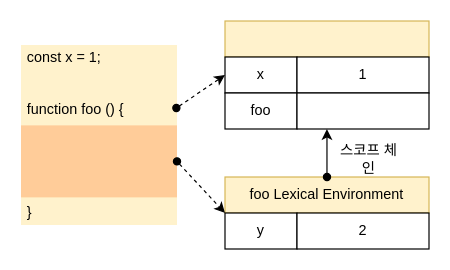
Image size: 450x270. Some labels were removed from this diagram. The shapes that lost their labels are listed below. From the top down, each one's centre as x and y in pixels, then its label:
At point 326,38: "Global Lexical Environment".
At point 362,110: "<function object>".
At point 98,161: "const y = 2; console.log(x + y);".
